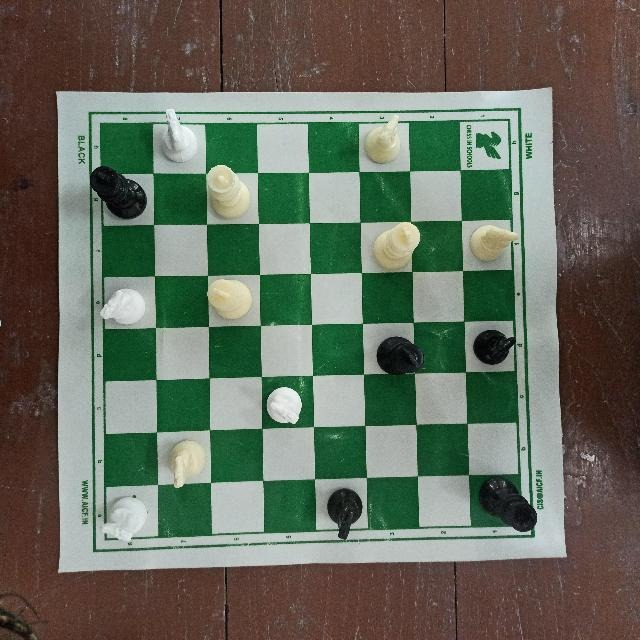black-king: (478, 475, 543, 537), (85, 162, 147, 219), (372, 334, 423, 376)
black-knight: (325, 489, 361, 539), (473, 328, 515, 368)
white-king: (377, 218, 424, 274), (205, 279, 256, 327)
white-knight: (163, 427, 209, 497), (99, 488, 148, 552), (150, 106, 198, 168), (93, 280, 149, 331), (258, 381, 316, 428), (466, 222, 523, 262), (363, 117, 409, 164)
white-queen: (202, 161, 256, 226)
